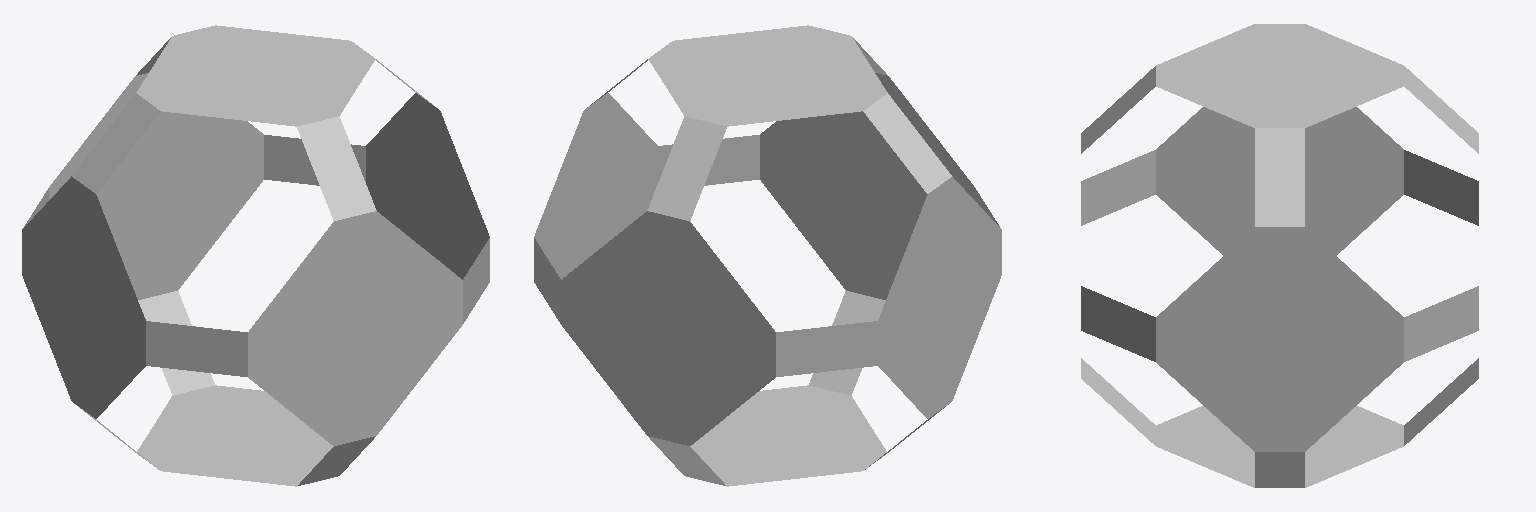
Rendered from cubb.obj.
3 renders of one model, left to right at view 1: azimuth 30°, elevation 25°; view 2: azimuth 150°, elevation 25°; view 3: azimuth 270°, elevation 25°, orthographic.
Parts seen in each view (by area): view 1: cubb; view 2: cubb; view 3: cubb.
Boxes of the visible parts, x1,y1,x2,y2 form: cubb: [22, 25, 489, 486]; cubb: [534, 25, 1001, 486]; cubb: [1081, 24, 1478, 487].
Size of the model in its own units: 1.6 by 1.6 by 1.6.